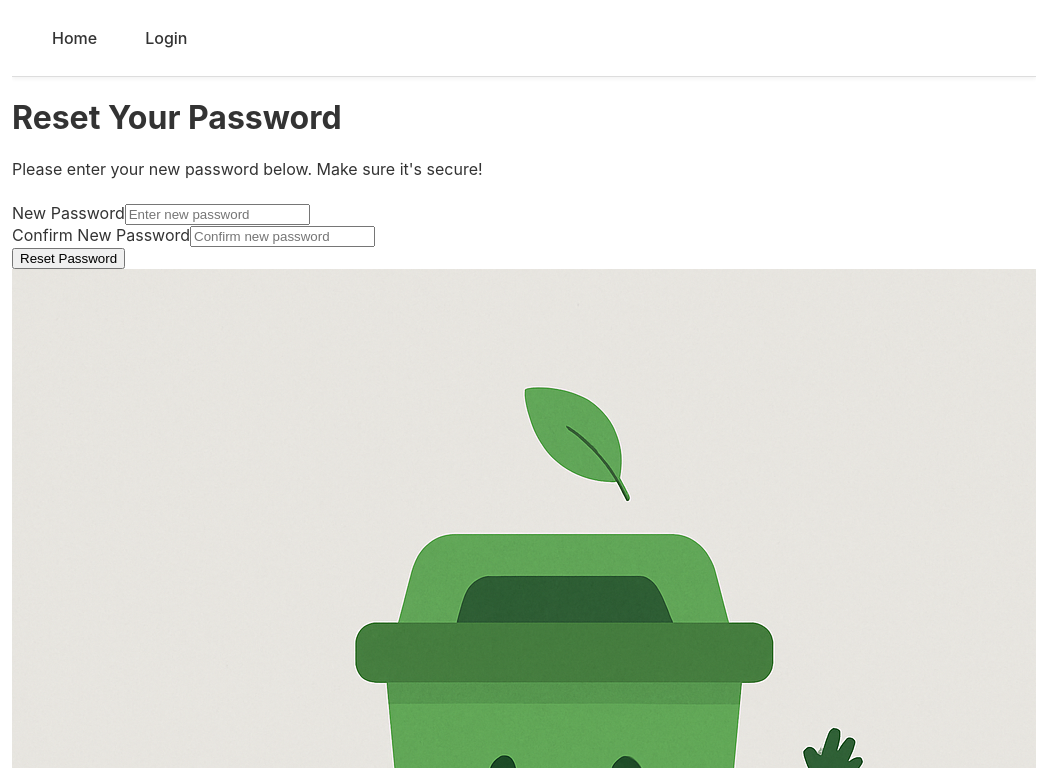
Test: ResetPasswordPage Component › validates password mismatch
Type "password123" into the password field labelled "New Password". click: (217, 214)
box: [125,204,310,225]
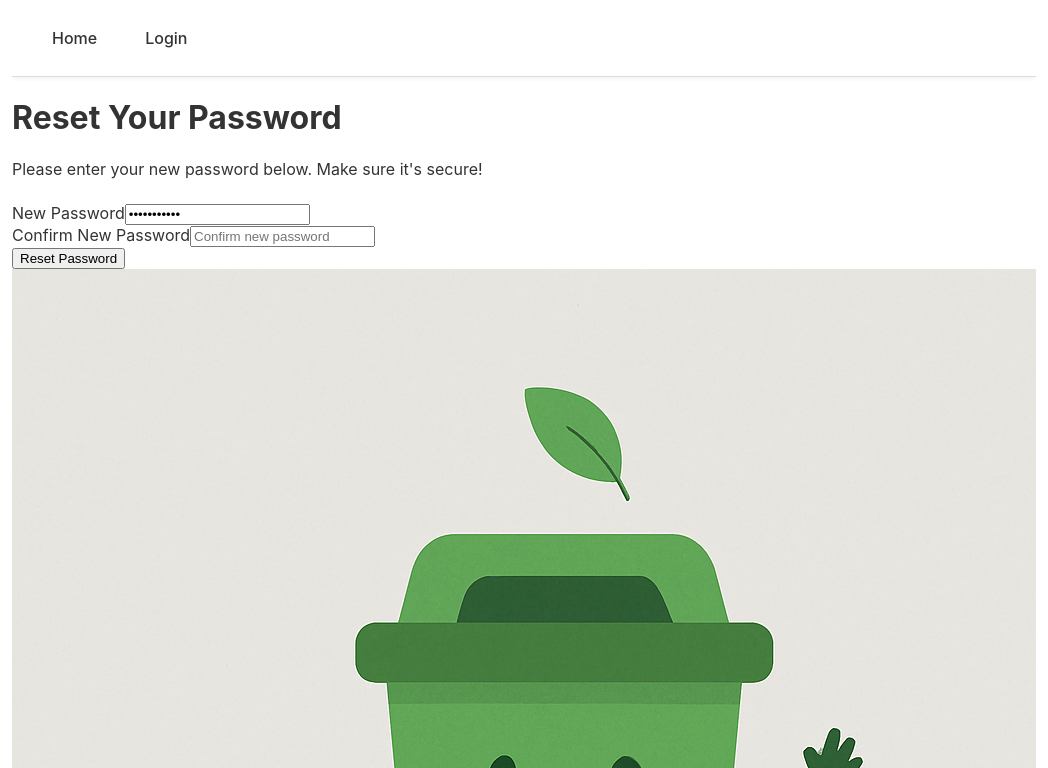
Type "mismatch" into the password field labelled "Confirm New Password". click: (283, 236)
box: [190,226,375,247]
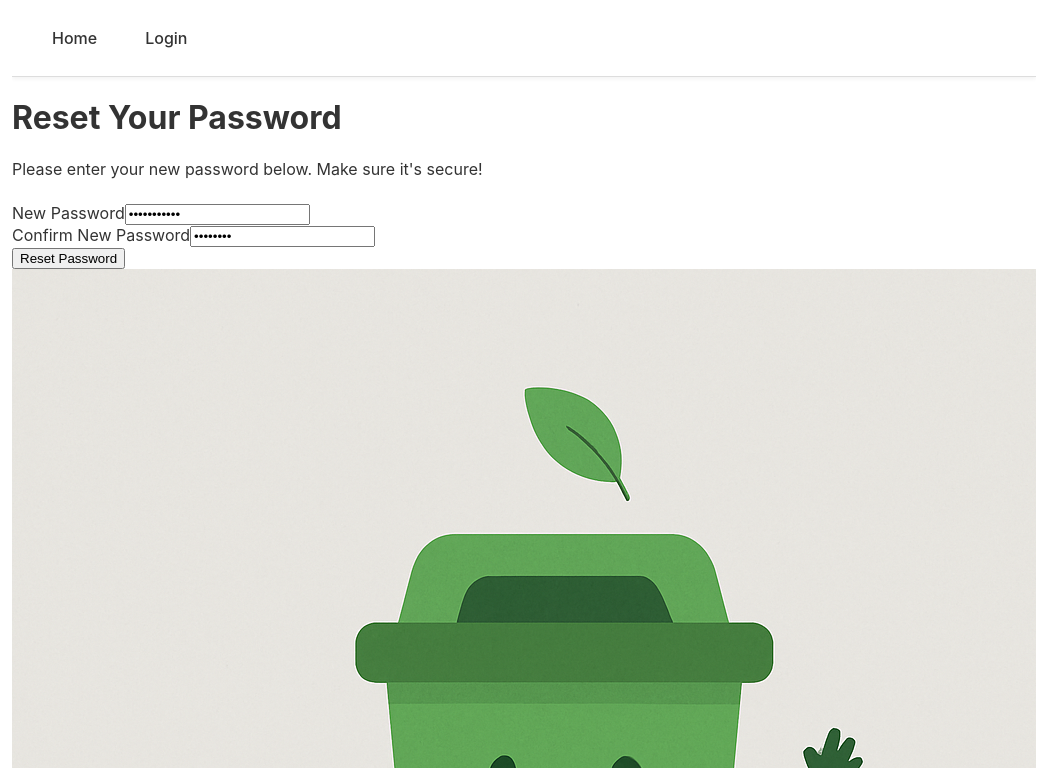
Click the button "Reset Password". click: (68, 258)
box: [12,248,125,269]
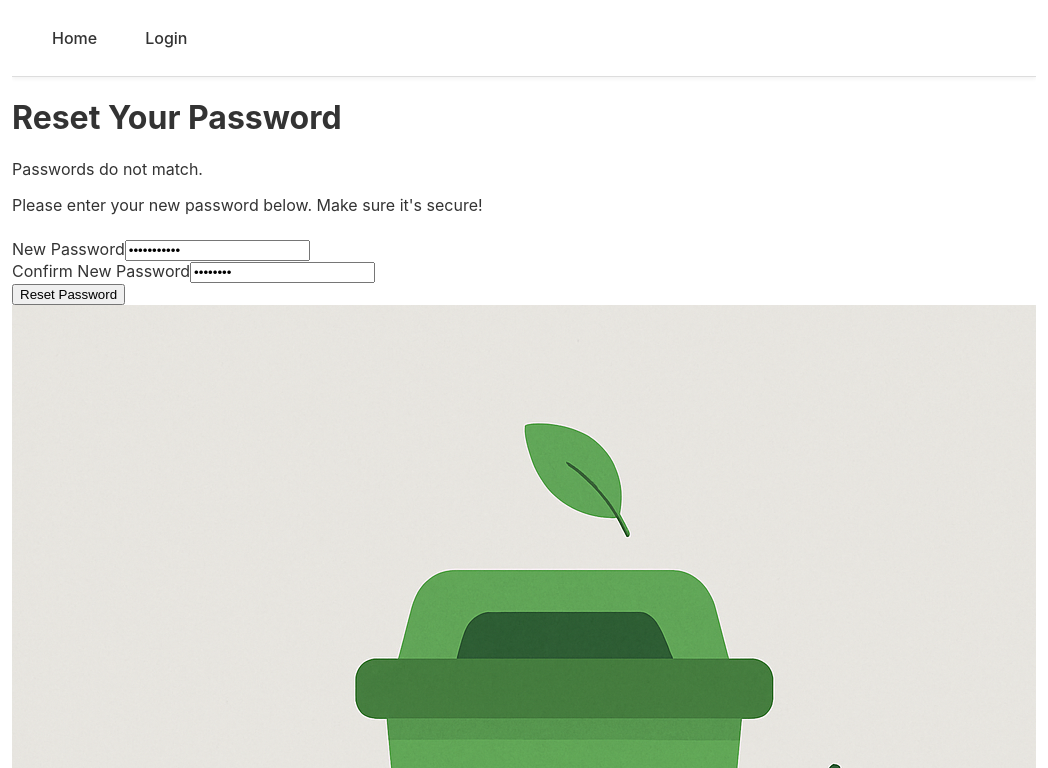
Result: the text "Passwords do not match." is shown at [12,159,203,179]
